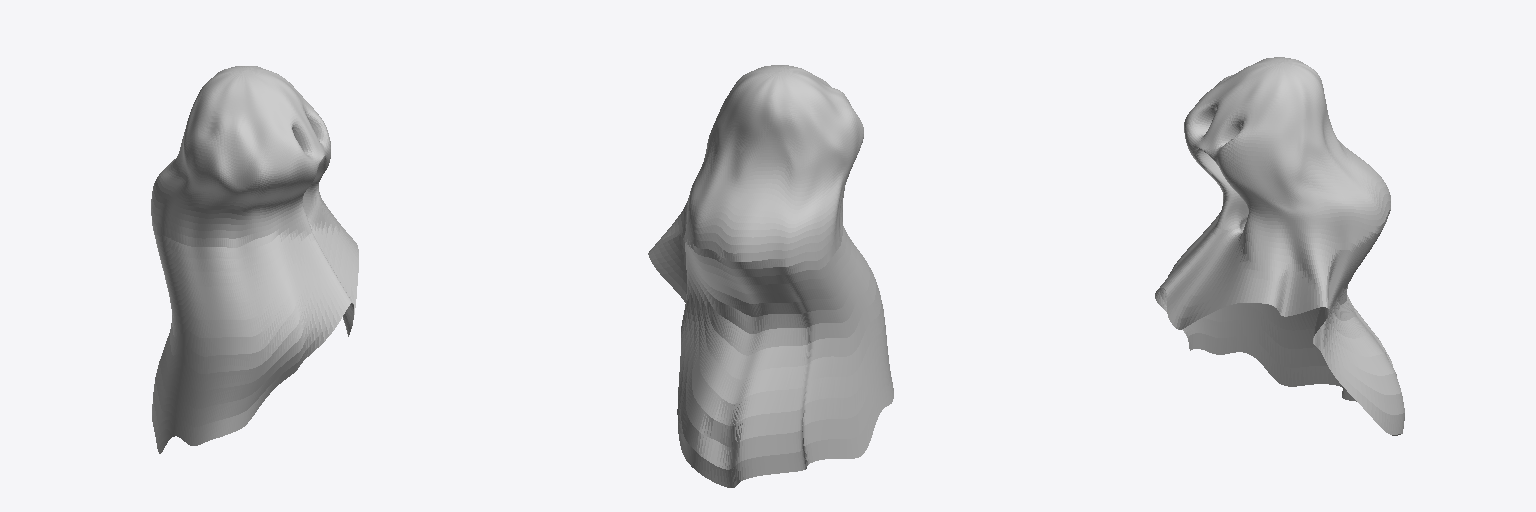
File: ghost_000029.obj
3 renders of one model, left to right at view 1: azimuth 30°, elevation 25°; view 2: azimuth 150°, elevation 25°; view 3: azimuth 270°, elevation 25°, orthographic.
Parts seen in each view (by area): view 1: 球体; view 2: 球体; view 3: 球体.
Part boxes in pixels (x1,y1,x2,y2): 球体: (151,66,358,453); 球体: (648,65,893,487); 球体: (1155,57,1404,435).
Size of the model in its own units: 8.62 by 15.89 by 9.64.